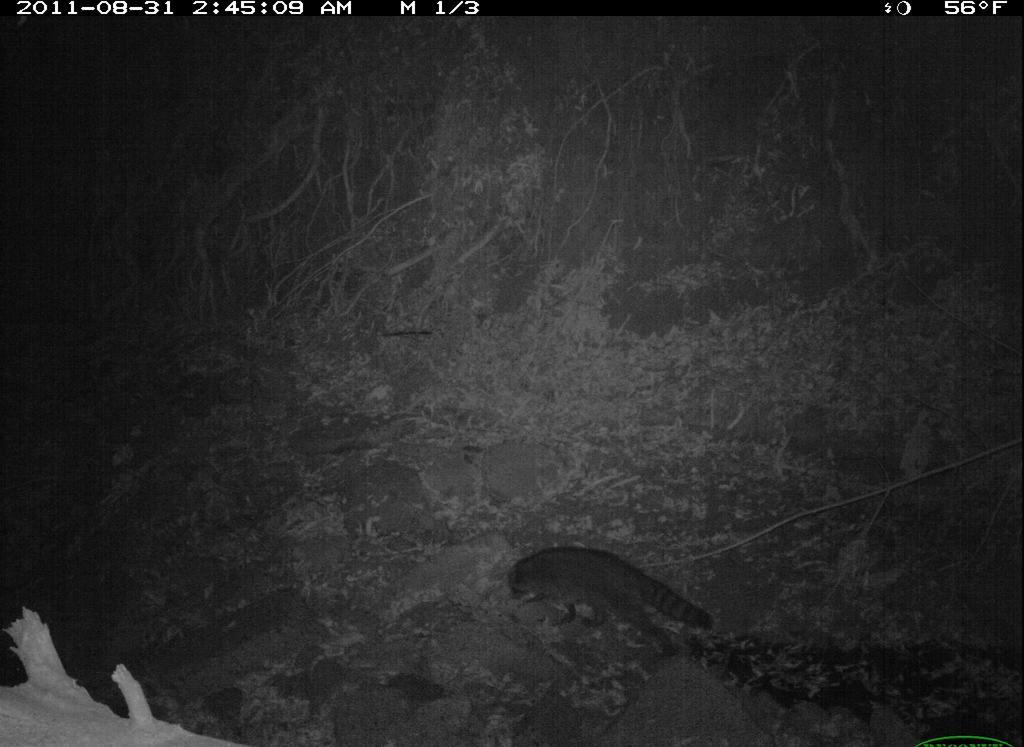raccoon: (492, 534, 728, 670)
